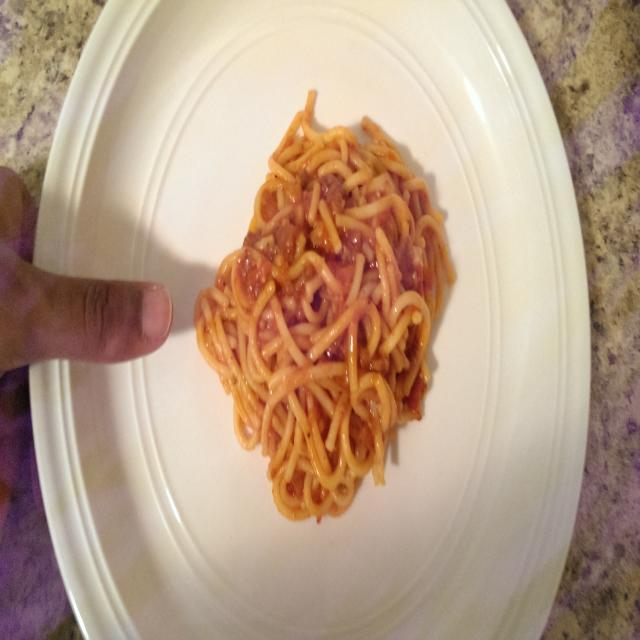Pasta: (203, 81, 452, 536)
